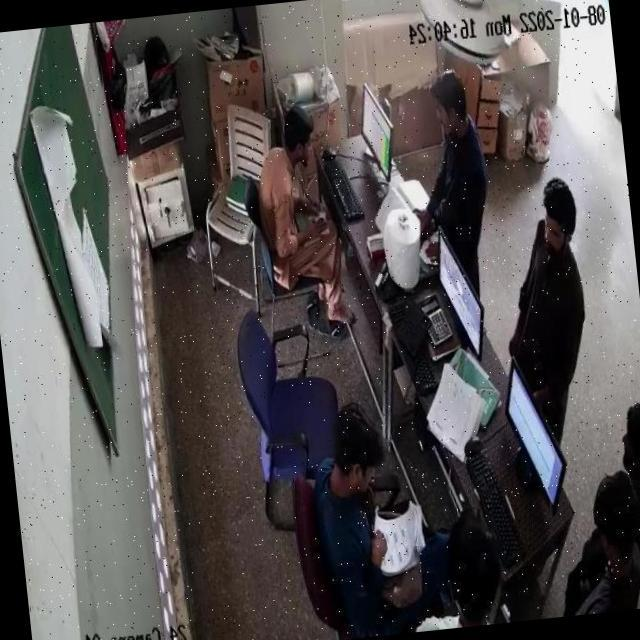person: (314, 396, 418, 624), (498, 190, 600, 398), (247, 91, 336, 271), (408, 520, 518, 632), (426, 66, 488, 258), (575, 473, 640, 613), (604, 403, 640, 490)
